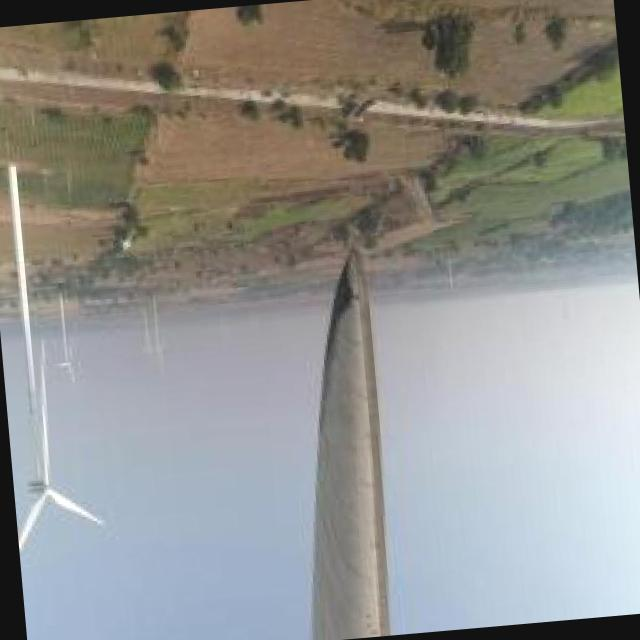Dirt: (309, 247, 385, 640)
Oil LEAKAGE: (320, 254, 358, 434)
